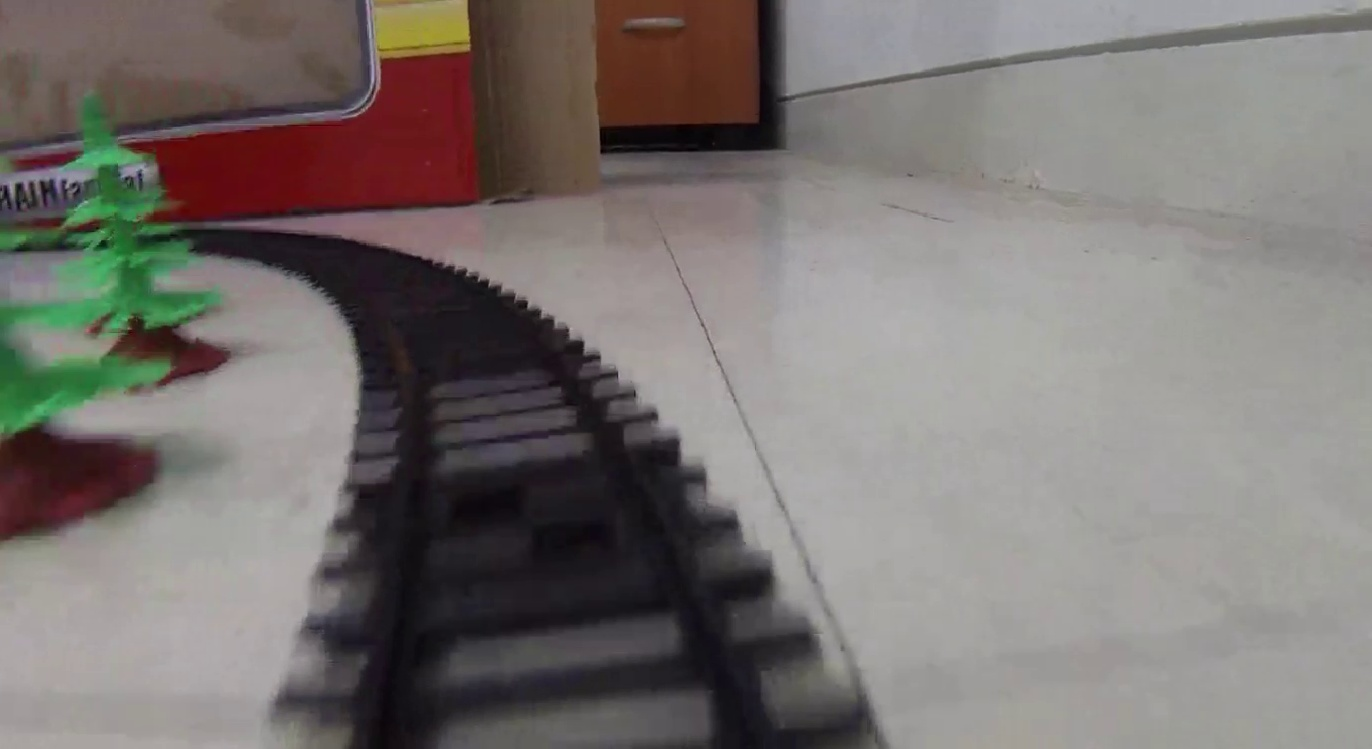tree: (48, 90, 226, 391)
